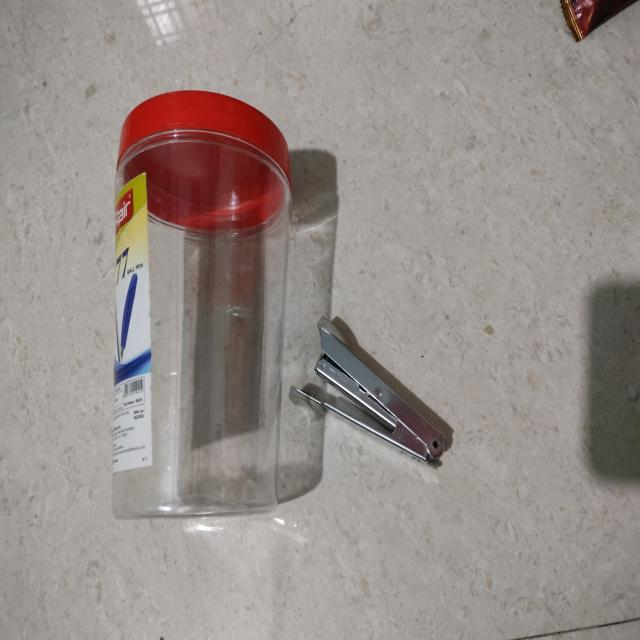metal: (317, 317, 454, 473)
plastic: (101, 89, 300, 539)
